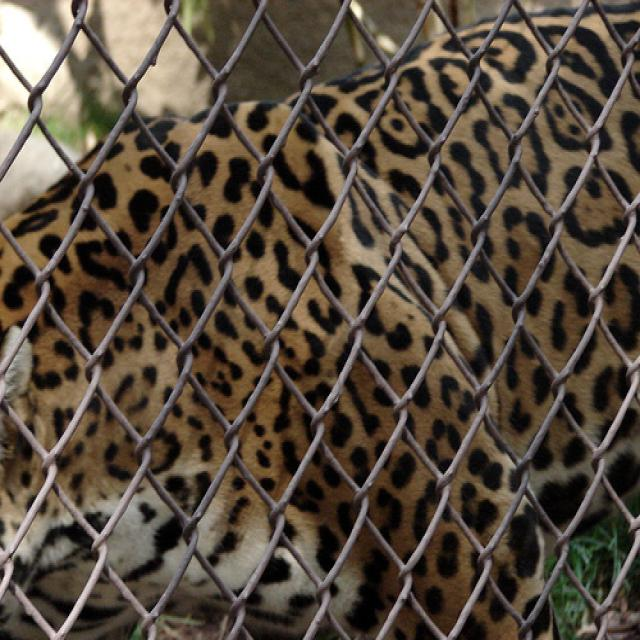Leopard: (9, 0, 637, 637)
